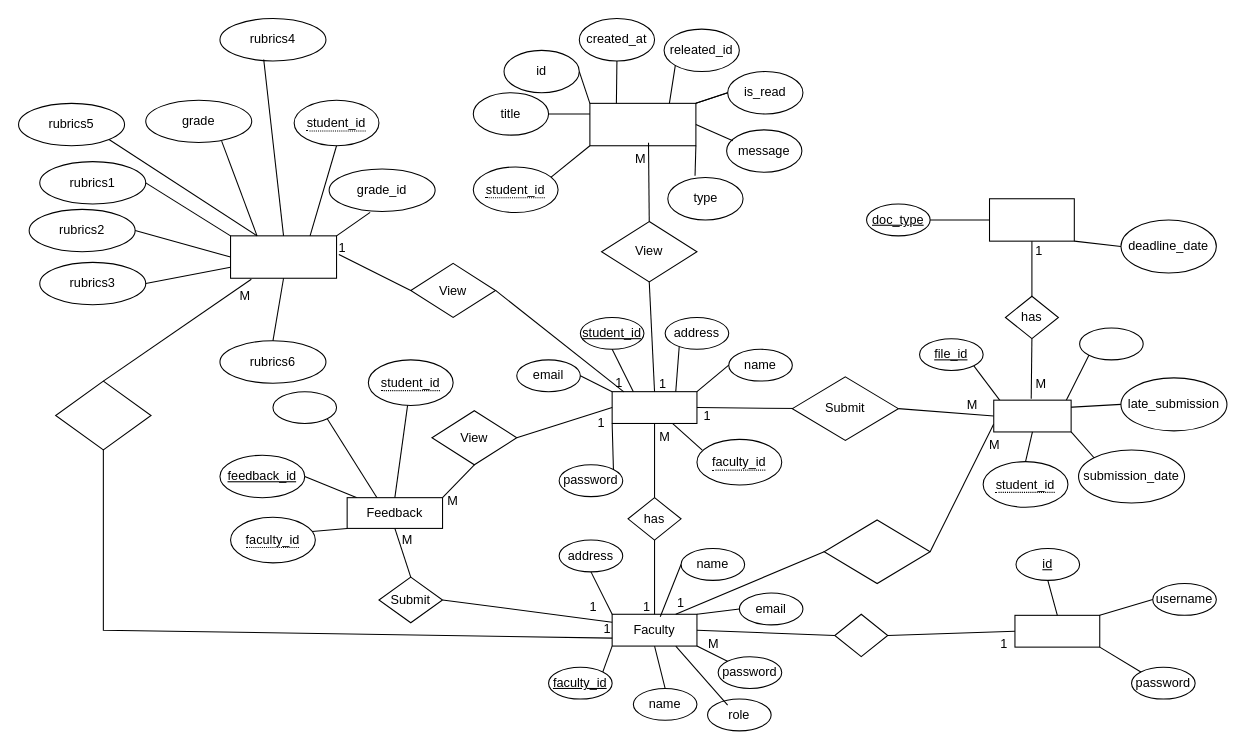
Image size: 1245x749. Some labels were removed from this diagram. Here are the shapes that lost their labels. From the top down, the box of each, then its label:
(589, 102, 696, 146): Notification
(988, 198, 1074, 241): document types
(229, 235, 337, 278): Grades
(1079, 327, 1143, 360): file_name
(55, 380, 151, 450): Assign
(272, 391, 337, 423): content
(611, 391, 697, 423): Student
(993, 399, 1071, 432): Submission
(823, 519, 930, 584): Evaluate
(834, 613, 888, 657): Adds
(1014, 614, 1100, 647): Admin
